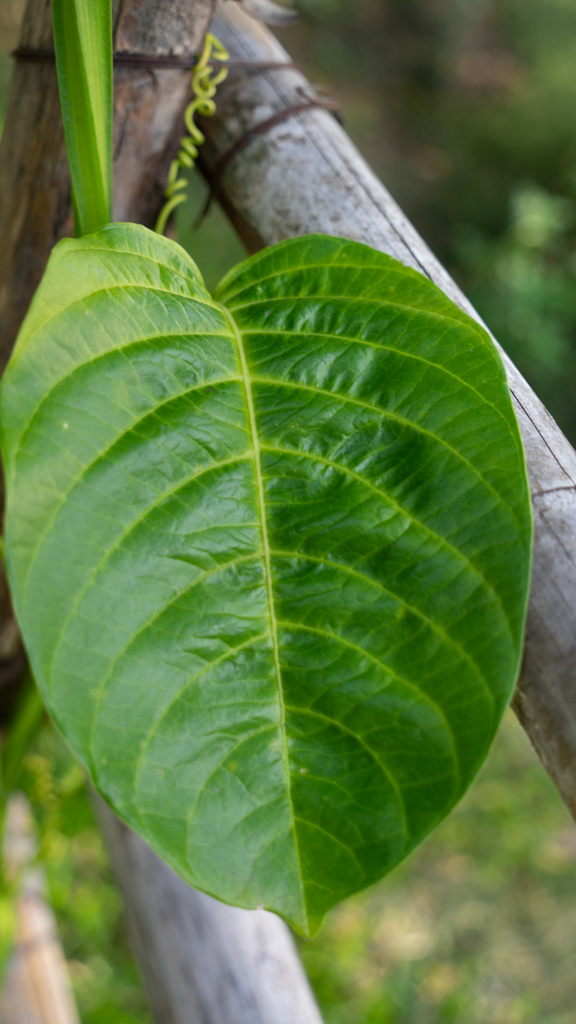Pepper yellow leaf: (5, 222, 215, 506)
